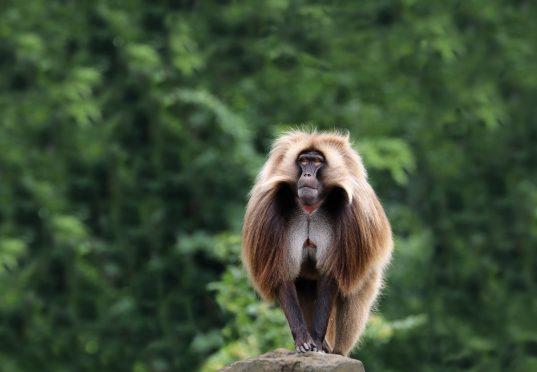Gelada: (241, 134, 396, 359)
